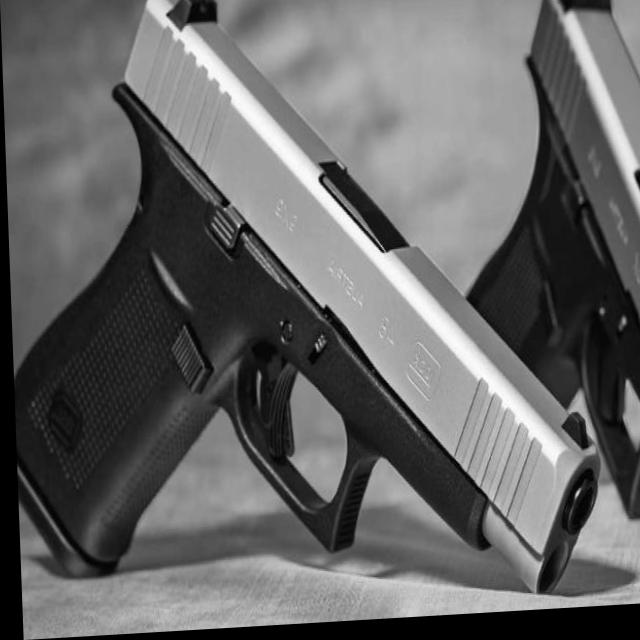handgun: (0, 0, 598, 640)
